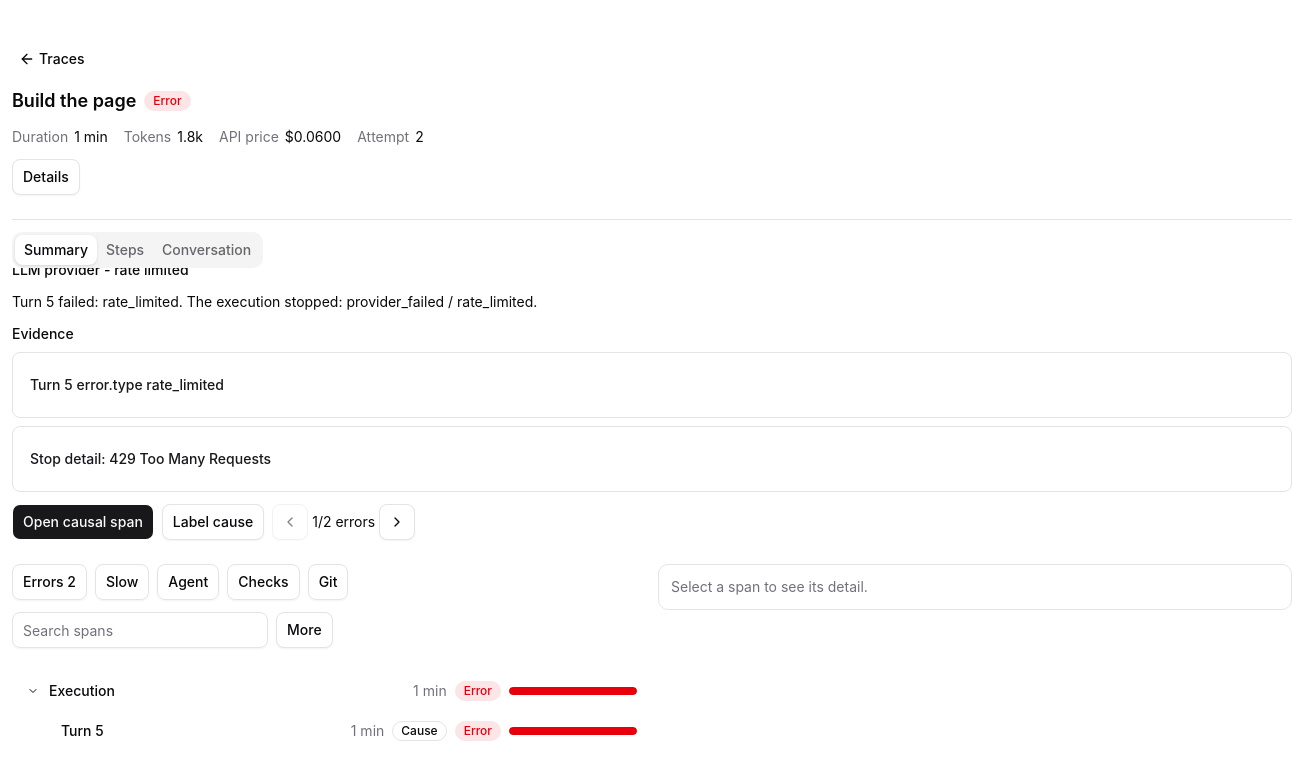
Test case: TraceScreen summary › selects the causal span with Open causal span
Click the button "Open causal span" at (83, 522), box left=12, top=504, right=154, bottom=540
(page scrolled)
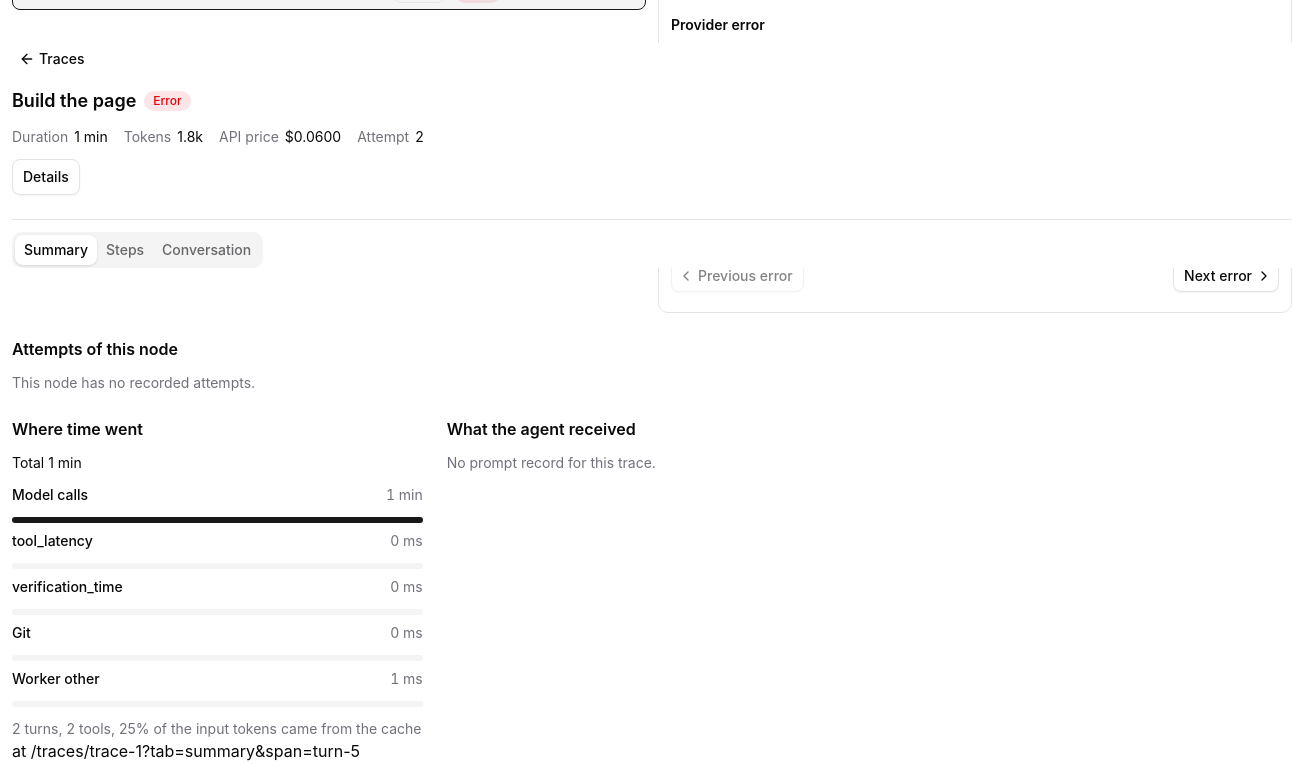
Now the text "at /traces/trace-1?tab=summary&span=turn-5" is shown, box left=12, top=741, right=360, bottom=761
